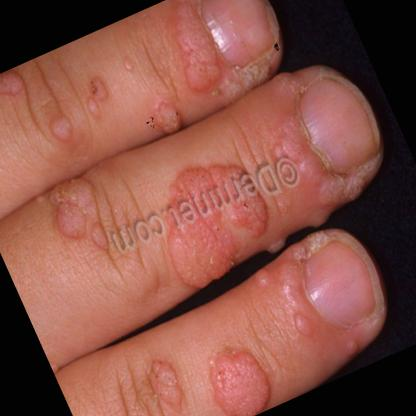Warts: (40, 183, 122, 287), (186, 329, 284, 416), (137, 345, 201, 416), (139, 84, 194, 152), (36, 103, 90, 162)
